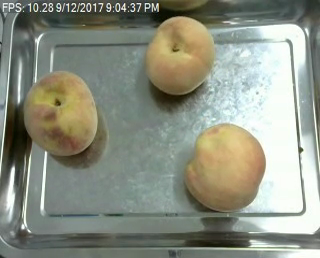Peach: (185, 120, 266, 210), (22, 69, 98, 156), (145, 16, 214, 95)
